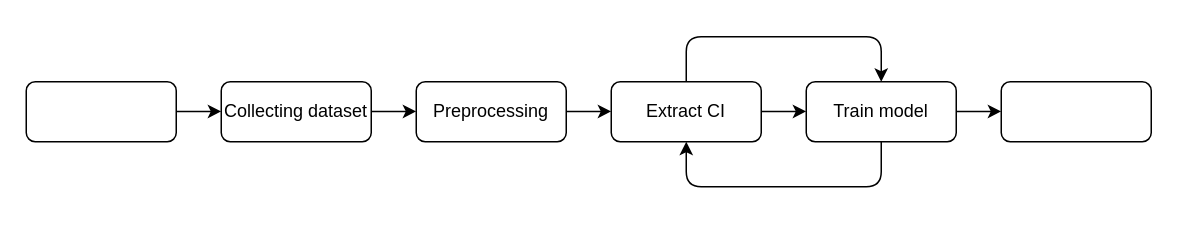
Some shapes in this 1178 by 225 pixel diagram are drawn without their labels. The centre of each missing label's shape, as x and y in pixels:
"Deploy" goes at point (1075, 111).
"Sensors output" goes at point (100, 111).
